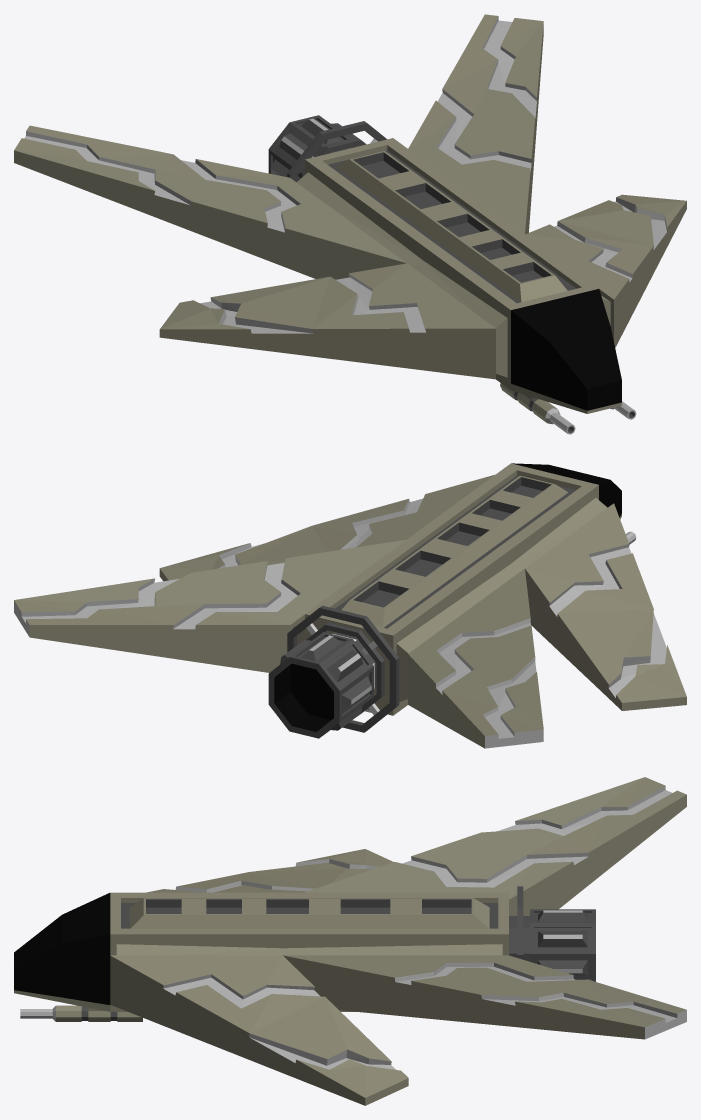
File: Spaceship7_3.fbx
3 views of the same model, one above another, from view 1: azimuth 30°, elevation 25°; view 2: azimuth 150°, elevation 25°; view 3: azimuth 270°, elevation 25° (orthographic). The views are drawn at different scales.
Parts seen in each view (by area): view 1: Spaceship7_3; view 2: Spaceship7_3; view 3: Spaceship7_3.
Part boxes in pixels (x1,y1,x2,y2): Spaceship7_3: (14,14,686,434); Spaceship7_3: (14,463,686,748); Spaceship7_3: (14,777,686,1105).
Bounding box in the file's own units: 1036 × 213 × 1177.
